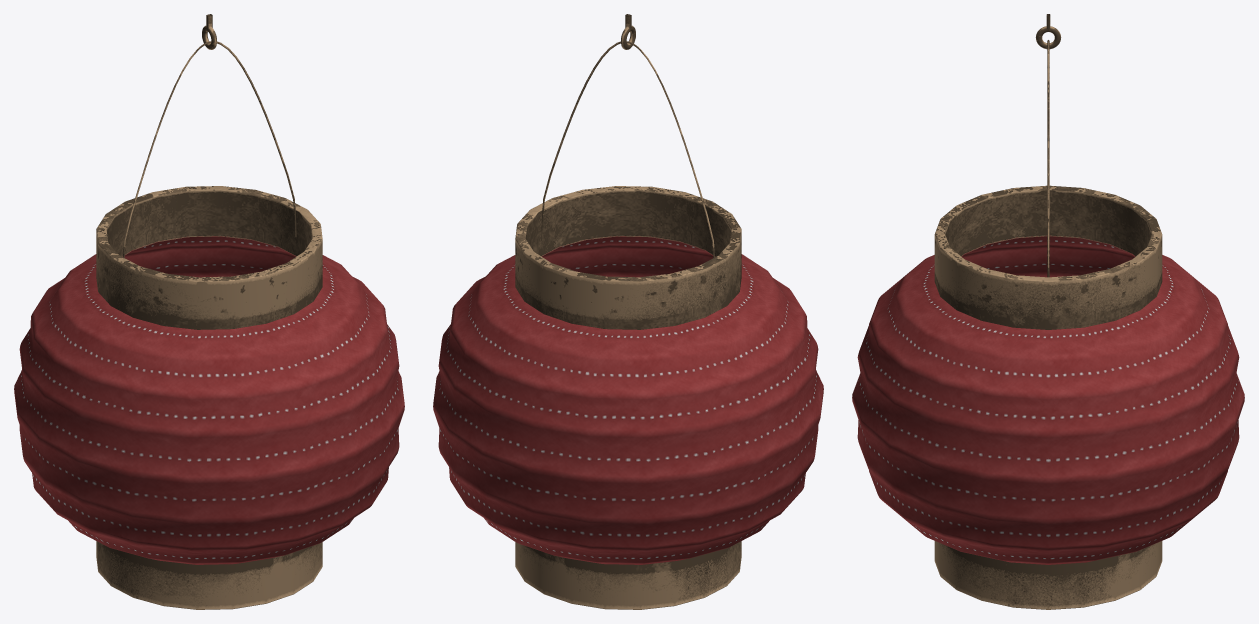
The model's file is cn_chochin.glb.
3 renders of one model, left to right at view 1: azimuth 30°, elevation 25°; view 2: azimuth 150°, elevation 25°; view 3: azimuth 270°, elevation 25°, orthographic.
Parts seen in each view (by area): view 1: LIGHt; view 2: LIGHt; view 3: LIGHt.
Boxes of the visible parts, bbox=[...] form: LIGHt: bbox=[14, 14, 404, 609]; LIGHt: bbox=[433, 14, 823, 609]; LIGHt: bbox=[852, 14, 1244, 609].
Size of the model in its own units: 0.378 by 0.581 by 0.378.
Materials: 1 (1 with a texture image).
